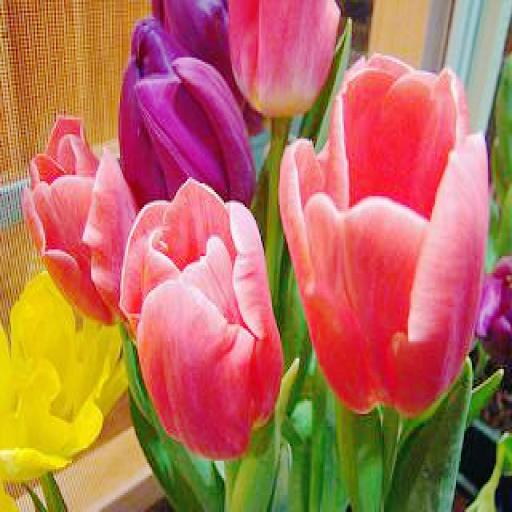tulip: (284, 49, 486, 412), (124, 177, 282, 452), (26, 115, 148, 322)
